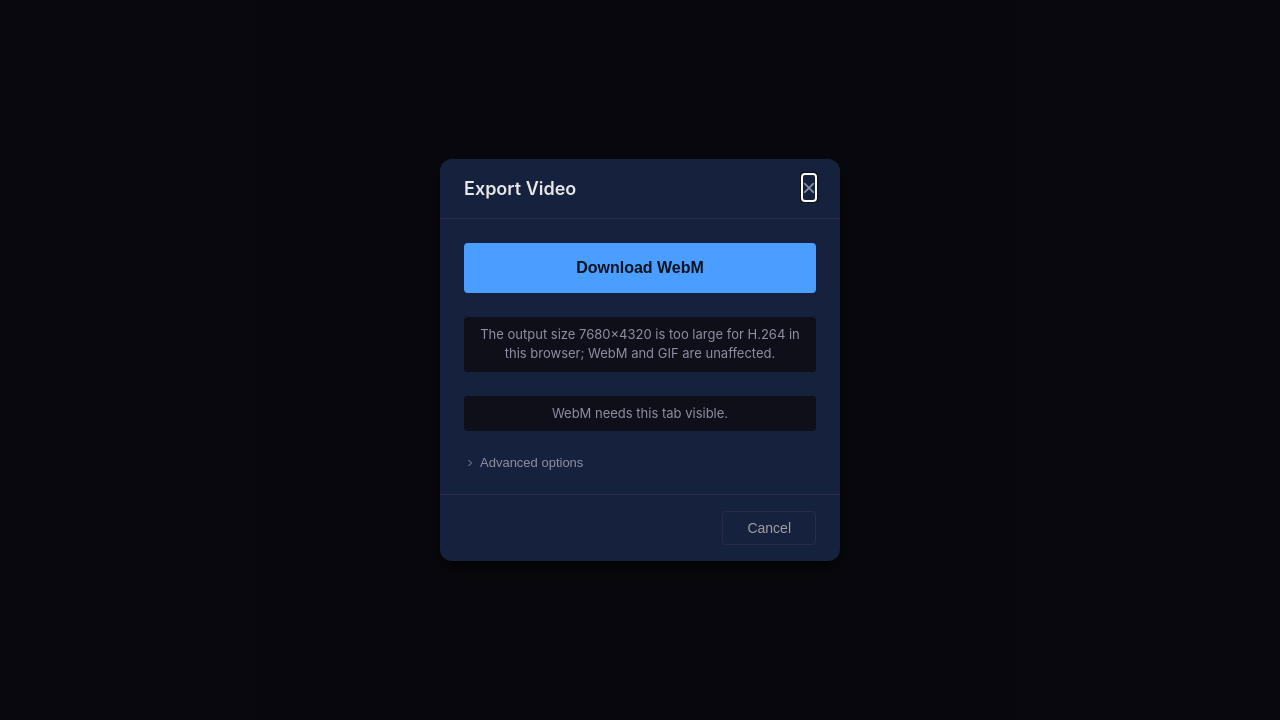
ExportDialog › rendering › names the output size as too large when MP4 is refused at a size with no side under 16
Expected: the text "The output size 7680×4320 is too large for H.264 in this browser; WebM and GIF are unaffected." is shown, [480,326,800,361]
Step 1. Click the button "Advanced options" → (532, 463), box [464,455,816,470]
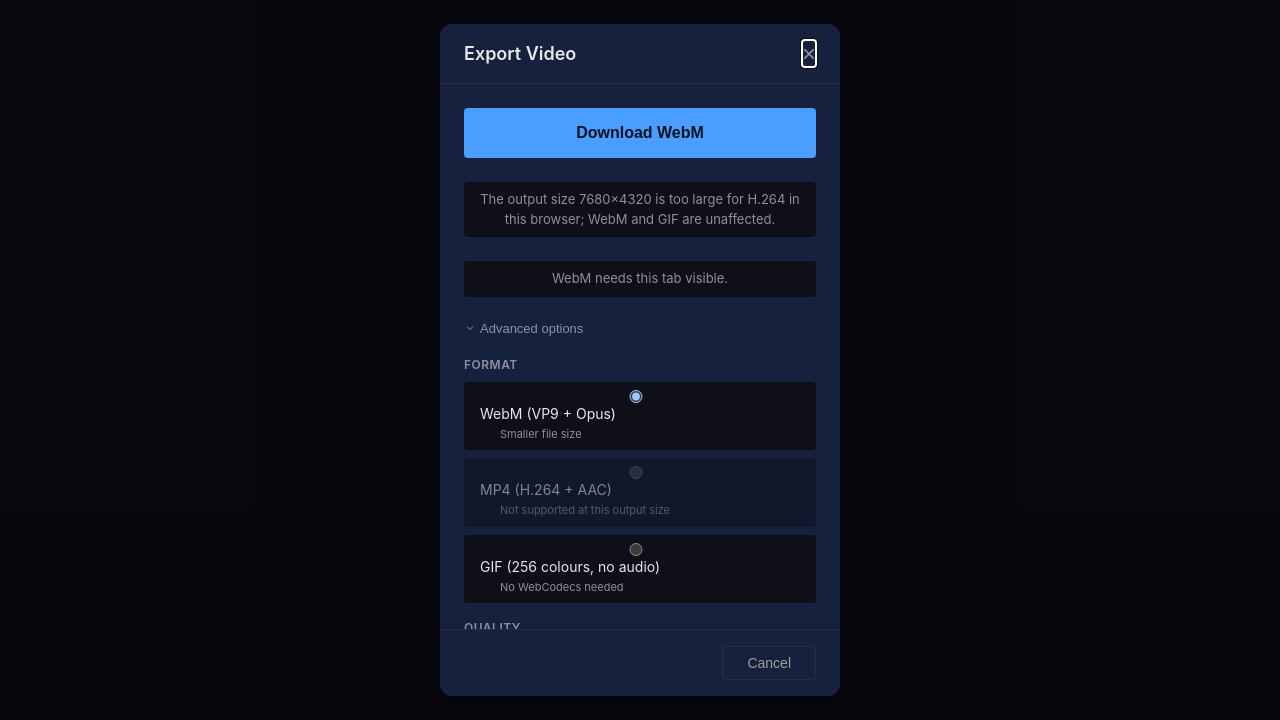
Now the text "Not supported at this output size" is shown, box [500,503,670,517]
